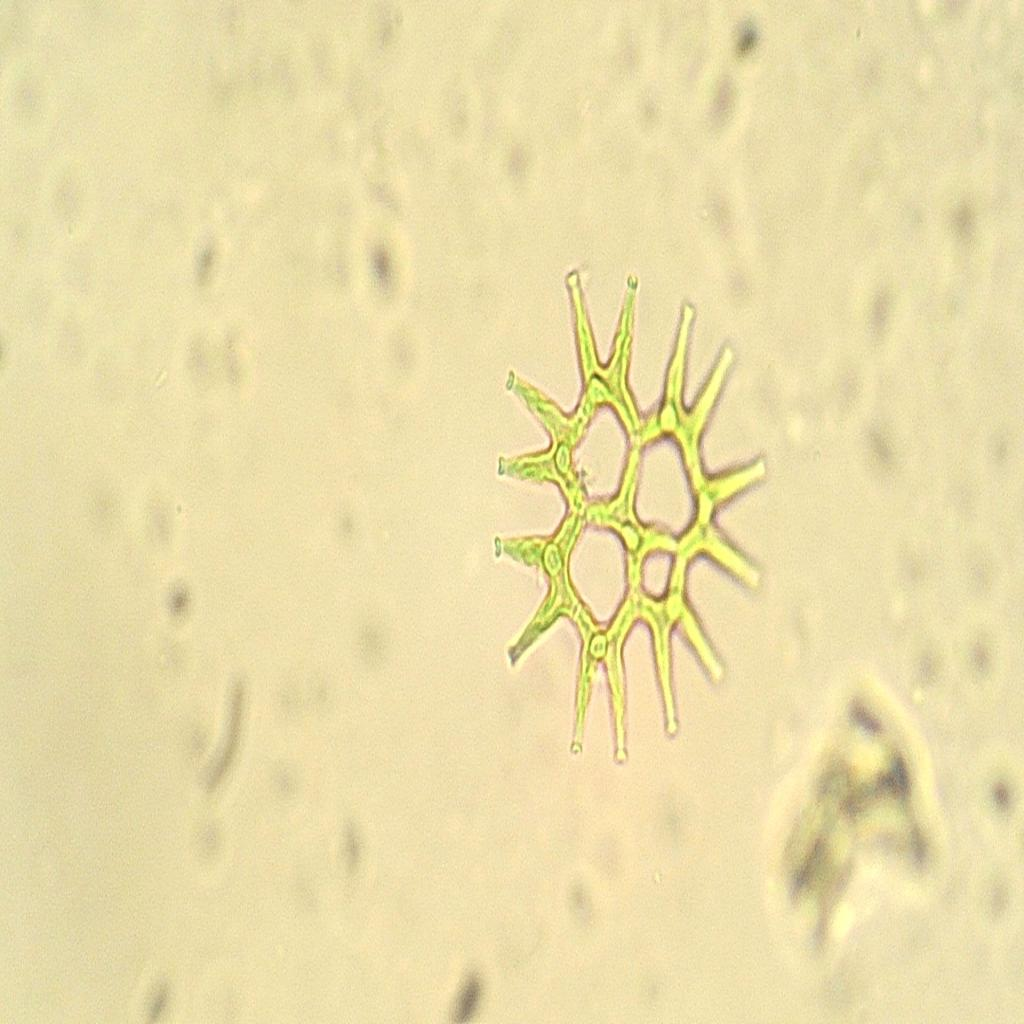Pediastrum_75T: (465, 253, 784, 781)
